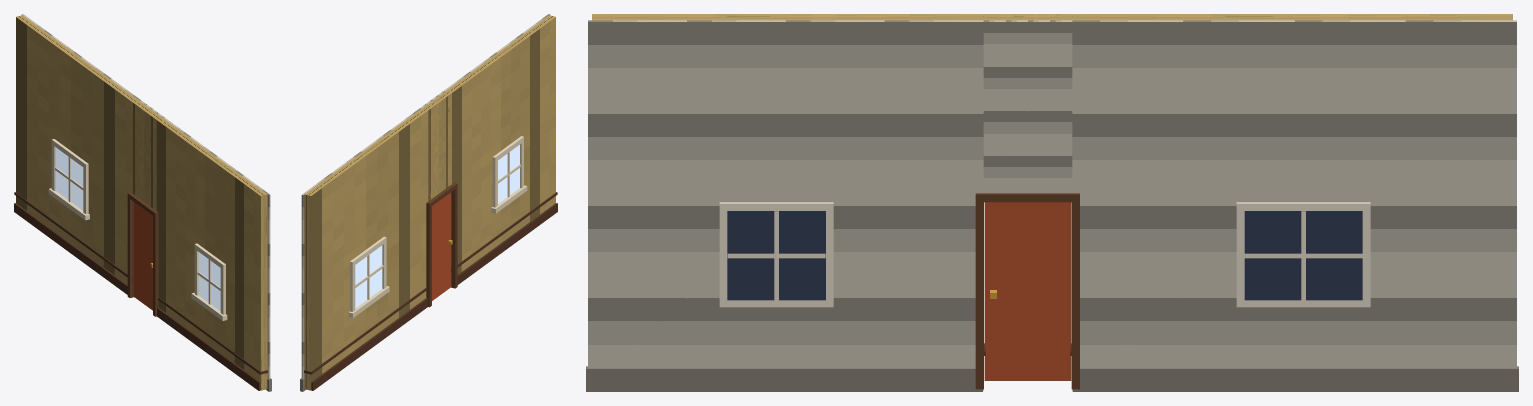
File: left.glb
3 views of the same model, side by side, from view 1: azimuth 30°, elevation 25°; view 2: azimuth 150°, elevation 25°; view 3: azimuth 270°, elevation 25° (orthographic). The views are drawn at different scales.
Parts seen in each view (by area): view 1: Box1, Box3, Box5, Box14, Box2, Box4, Box25, Box8, Box36, Box39, Box11, Box12 (+10 smaller); view 2: Box1, Box3, Box5, Box14, Box2, Box25, Box4, Box6, Box36, Box12, Box41, Box11 (+9 smaller); view 3: Box6, Box8, Box14, Box10, Box7, Box18, Box9, Box29, Box17, Box28, Box1, Box3 (+3 smaller).
Boxes of the visible parts, x1,y1,x2,y2 form: Box1: [16, 15, 139, 284]; Box3: [156, 118, 267, 390]; Box5: [133, 101, 162, 210]; Box14: [133, 202, 152, 310]; Box2: [14, 203, 127, 294]; Box4: [157, 307, 260, 390]; Box25: [56, 147, 83, 210]; Box8: [163, 118, 270, 379]; Box36: [198, 252, 220, 310]; Box39: [16, 196, 127, 283]; Box11: [127, 192, 133, 297]; Box12: [153, 211, 158, 316]; Box1: [304, 108, 428, 390]; Box3: [445, 15, 555, 273]; Box5: [422, 91, 451, 201]; Box14: [432, 192, 451, 300]; Box2: [311, 298, 427, 390]; Box25: [355, 245, 382, 308]; Box4: [457, 203, 557, 284]; Box6: [301, 108, 420, 379]; Box36: [498, 145, 519, 203]; Box12: [451, 182, 457, 288]; Box41: [457, 196, 555, 274]; Box11: [426, 201, 431, 307]; Box6: [1072, 20, 1516, 390]; Box8: [588, 20, 983, 390]; Box14: [984, 202, 1071, 380]; Box10: [983, 20, 1072, 193]; Box7: [1072, 366, 1518, 391]; Box18: [1244, 211, 1362, 300]; Box9: [586, 366, 982, 391]; Box29: [727, 211, 825, 300]; Box17: [1236, 202, 1370, 307]; Box28: [719, 202, 833, 307]; Box1: [1072, 14, 1512, 20]; Box3: [592, 14, 983, 20].
Bounding box in the file's own units: 0.338 × 4.14 × 9.47.
11 materials, 2 textured.
